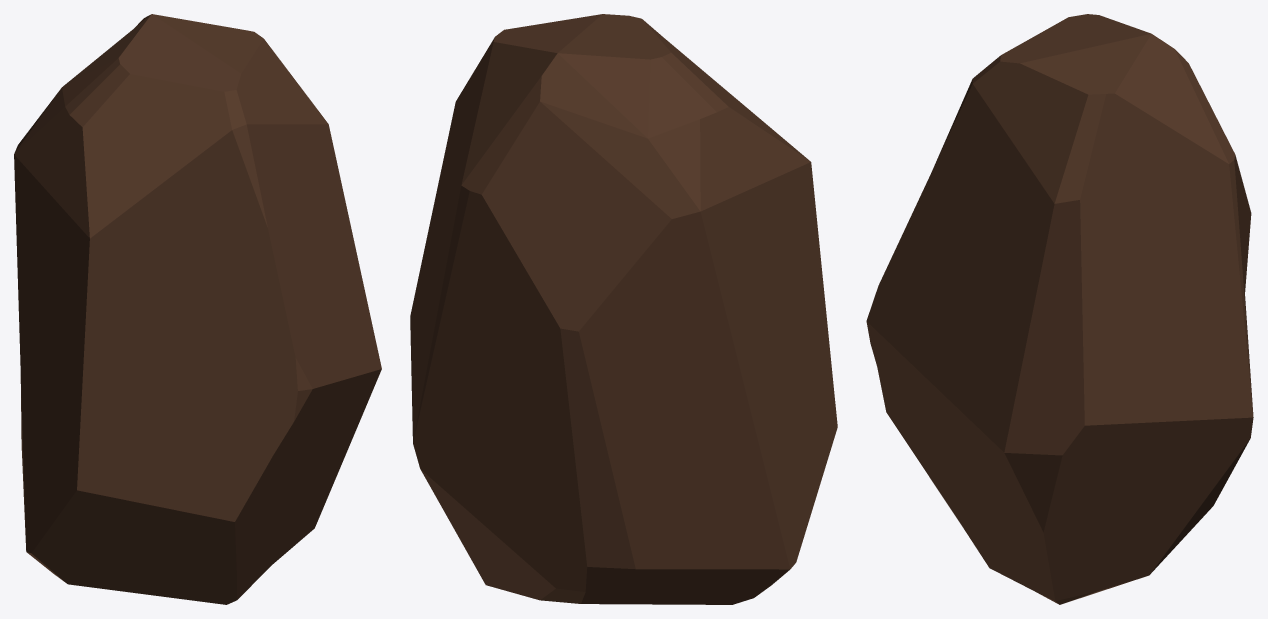
File: rock2.fbx
3 renders of one model, left to right at view 1: azimuth 30°, elevation 25°; view 2: azimuth 150°, elevation 25°; view 3: azimuth 270°, elevation 25°, orthographic. The views are drawn at different scales.
Visible parts, largest first — view 1: Sphere; view 2: Sphere; view 3: Sphere.
Boxes of the visible parts, x1,y1,x2,y2 form: Sphere: [14, 14, 381, 604]; Sphere: [410, 14, 837, 604]; Sphere: [866, 14, 1253, 604].
Size of the model in its own units: 176 by 266 by 173.
